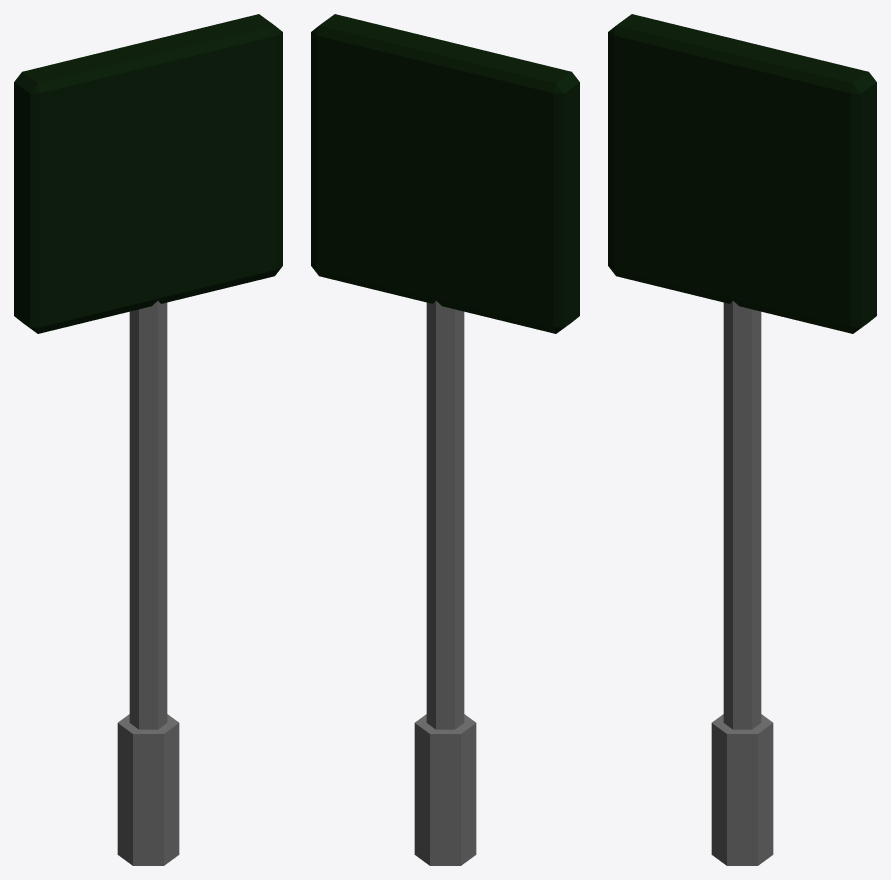
The model's file is SignBoard_01.obj.
3 views of the same model, side by side, from view 1: azimuth 30°, elevation 25°; view 2: azimuth 150°, elevation 25°; view 3: azimuth 330°, elevation 25° (orthographic).
Visible parts, largest first — view 1: SignBoard_01_Cylinder.018; view 2: SignBoard_01_Cylinder.018; view 3: SignBoard_01_Cylinder.018.
Boxes of the visible parts, x1,y1,x2,y2 form: SignBoard_01_Cylinder.018: [14, 14, 282, 865]; SignBoard_01_Cylinder.018: [311, 14, 579, 865]; SignBoard_01_Cylinder.018: [608, 14, 876, 865].
Bounding box in the file's own units: 5.21 × 15.88 × 1.1.
